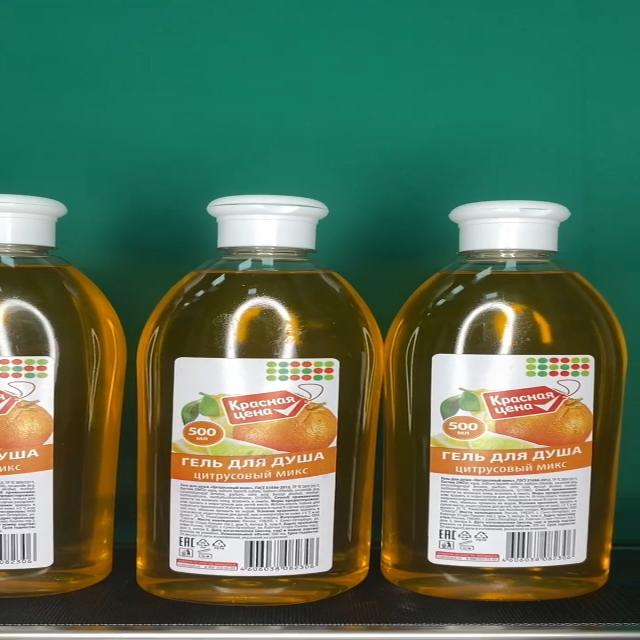Bottle: (136, 194, 384, 605), (380, 200, 628, 600)
Cap: (447, 200, 572, 252), (208, 196, 330, 249)
